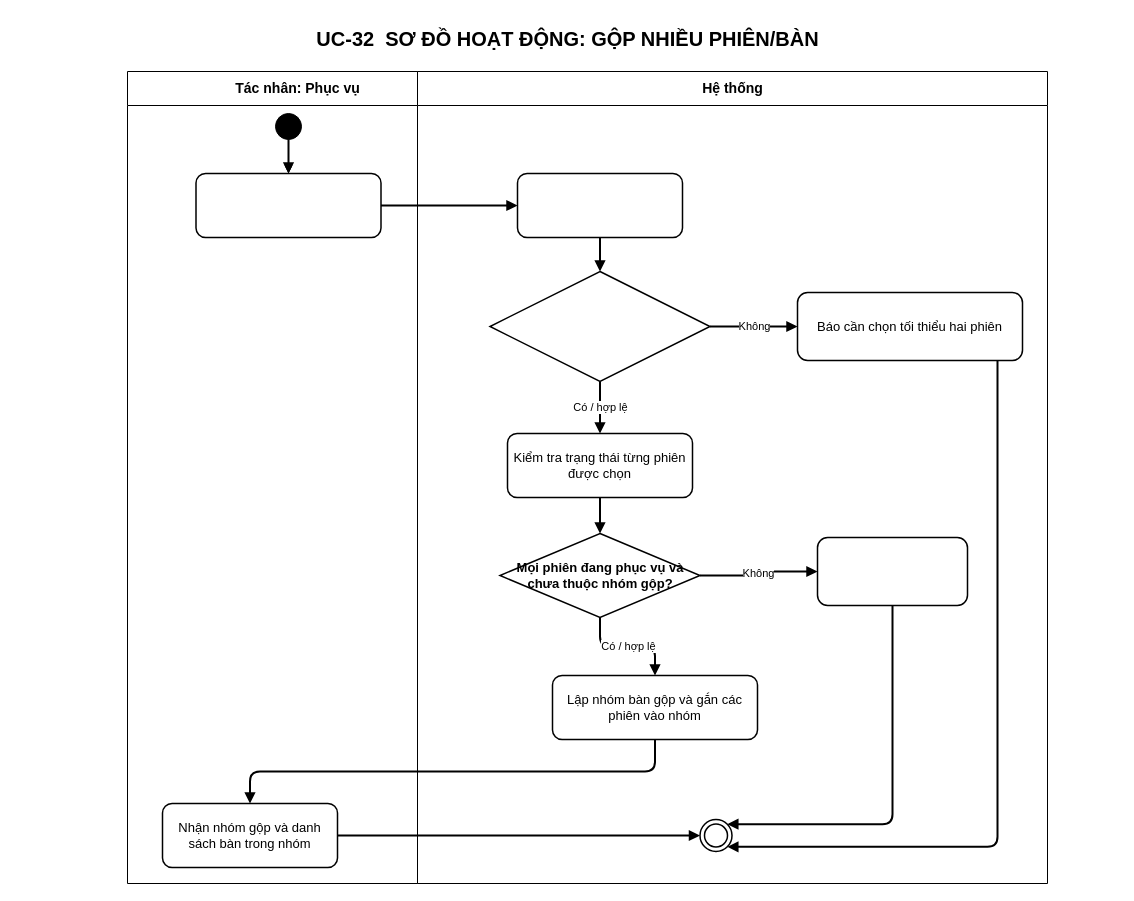
This 1134x901 diagram has some shape labels left out. The centre of each missing label's shape, as x and y in pixels:
Chọn ít nhất hai phiên và nhập ghi chú gộp: (x=288, y=205)
Không thể gộp: (x=892, y=571)
Kiểm tra quyền phục vụ: (x=599, y=205)
Đã chọn từ hai phiên khác nhau trở lên?: (x=599, y=326)
